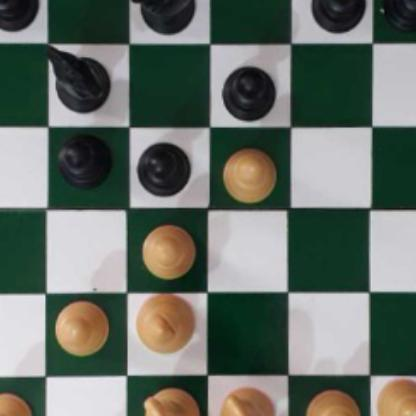black-knight: (44, 44, 110, 110), (133, 0, 196, 33)
black-pawn: (220, 59, 278, 121), (136, 136, 193, 196), (56, 133, 116, 189), (311, 0, 366, 32), (0, 0, 38, 30), (384, 0, 416, 30)
white-bishop: (134, 292, 196, 354)
white-knight: (143, 386, 201, 416), (218, 386, 276, 416)
white-pawn: (52, 299, 109, 355), (220, 145, 278, 199), (140, 220, 194, 278), (376, 376, 416, 416), (306, 389, 360, 416), (0, 391, 33, 416)
